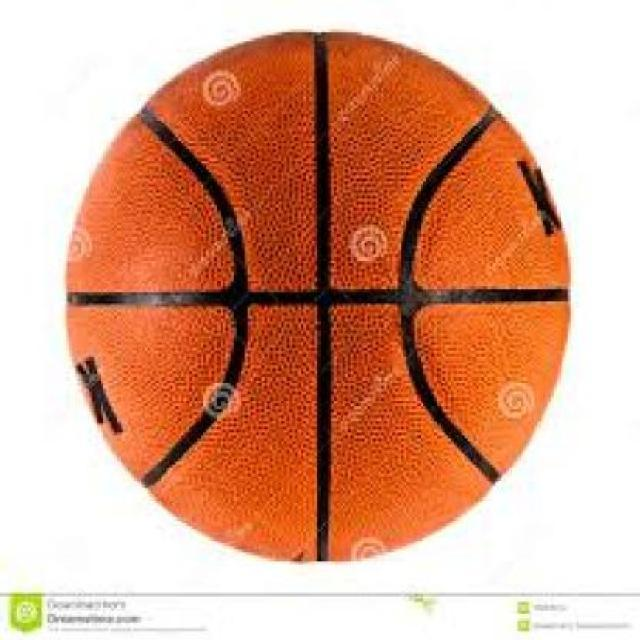basketball: (68, 34, 568, 560)
